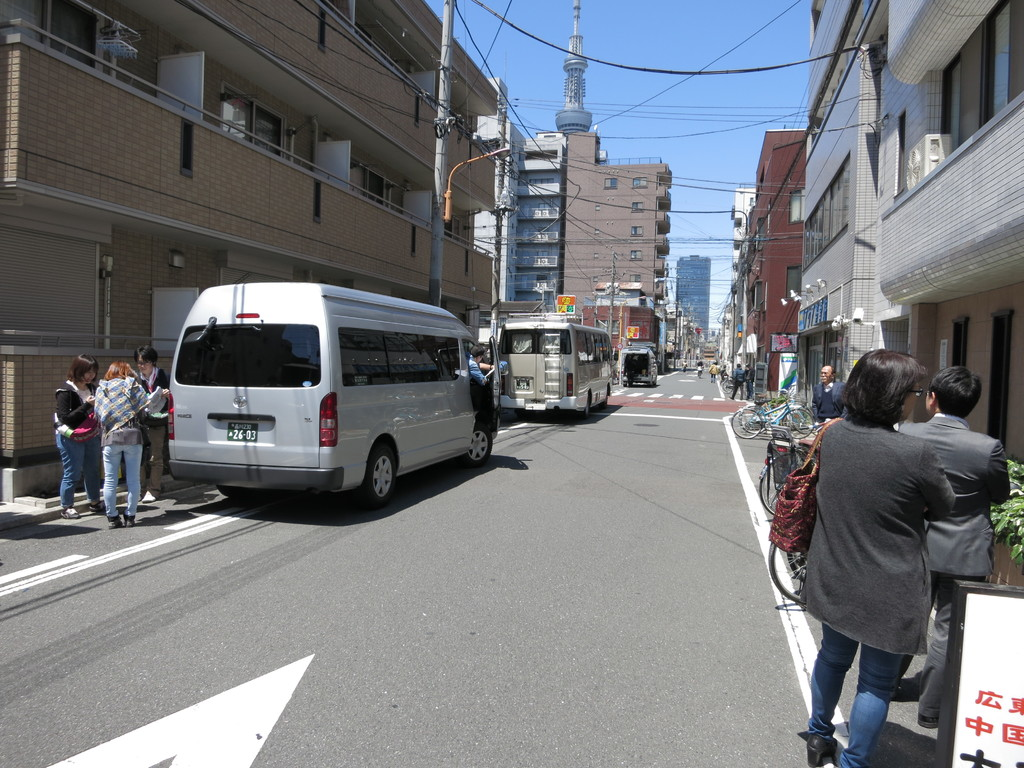Bus: (159, 295, 506, 501), (492, 320, 614, 421)
